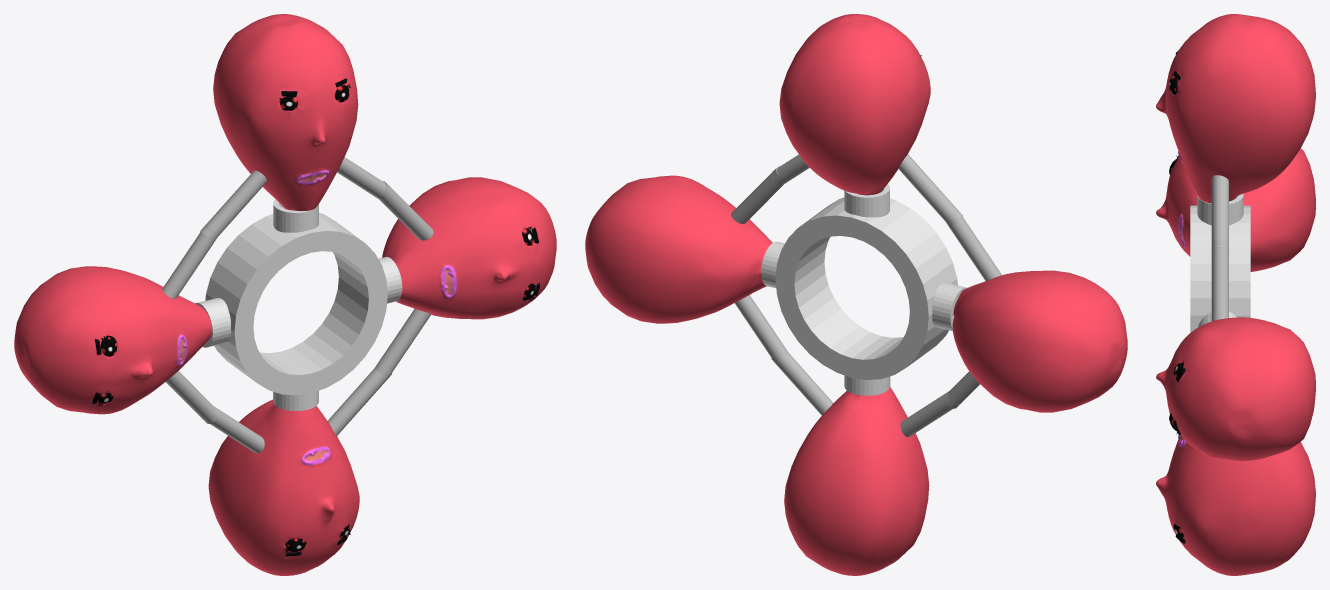
The model's file is RedHeadItem.fbx.
3 views of the same model, side by side, from view 1: azimuth 30°, elevation 25°; view 2: azimuth 150°, elevation 25°; view 3: azimuth 270°, elevation 25° (orthographic).
Visible parts, largest first — view 1: head.003, head, head.002, Cylinder.005, head.001; view 2: head.001, head.002, head, head.003, Cylinder.005; view 3: head, head.001, head.002, head.003, Cylinder.005.
Part boxes in pixels (x1,y1,x2,y2): head.003: (14, 225, 217, 423); head: (200, 14, 391, 239); head.002: (201, 368, 391, 575); Cylinder.005: (195, 199, 402, 410); head.001: (374, 177, 556, 379); head.001: (585, 166, 788, 364); head.002: (771, 353, 961, 575); head: (771, 14, 962, 224); head.003: (945, 210, 1127, 412); Cylinder.005: (761, 184, 966, 395); head: (1156, 14, 1315, 249); head.001: (1156, 239, 1315, 461); head.002: (1156, 435, 1315, 575); head.003: (1156, 148, 1315, 271); Cylinder.005: (1190, 194, 1250, 332).
Size of the model in its own units: 0.6148 by 0.6148 by 0.162.
4 materials, 3 textured.
